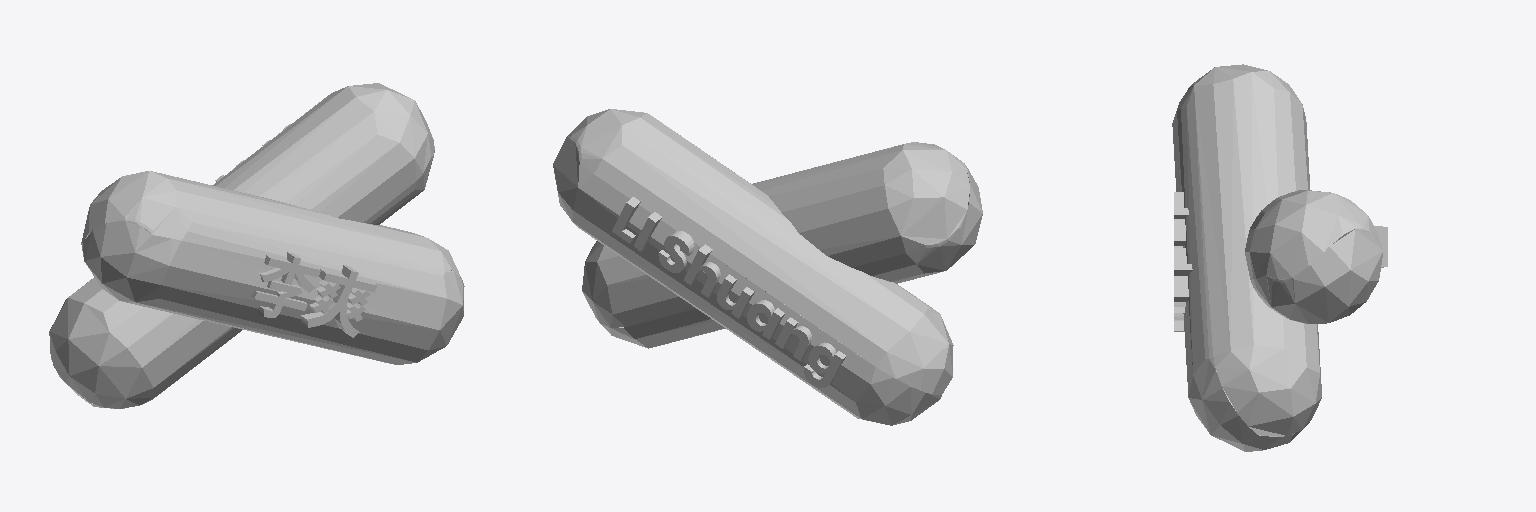
Rendered from LiShuang.obj.
3 views of the same model, side by side, from view 1: azimuth 30°, elevation 25°; view 2: azimuth 150°, elevation 25°; view 3: azimuth 270°, elevation 25° (orthographic).
Parts seen in each view (by area): view 1: root_3, root_2, node_id449; view 2: root_2, root_3, node_id462; view 3: root_3, root_2, node_id449.
Part boxes in pixels (bbox=[...]): root_3: bbox=[81, 171, 464, 364]; root_2: bbox=[49, 83, 434, 408]; node_id449: bbox=[251, 252, 376, 337]; root_2: bbox=[553, 109, 953, 425]; root_3: bbox=[582, 142, 982, 348]; node_id462: bbox=[612, 197, 845, 387]; root_3: bbox=[1172, 64, 1321, 451]; root_2: bbox=[1245, 190, 1382, 323]; node_id449: bbox=[1174, 192, 1192, 331].
Size of the model in its own units: 0.289 by 0.1836 by 0.143.